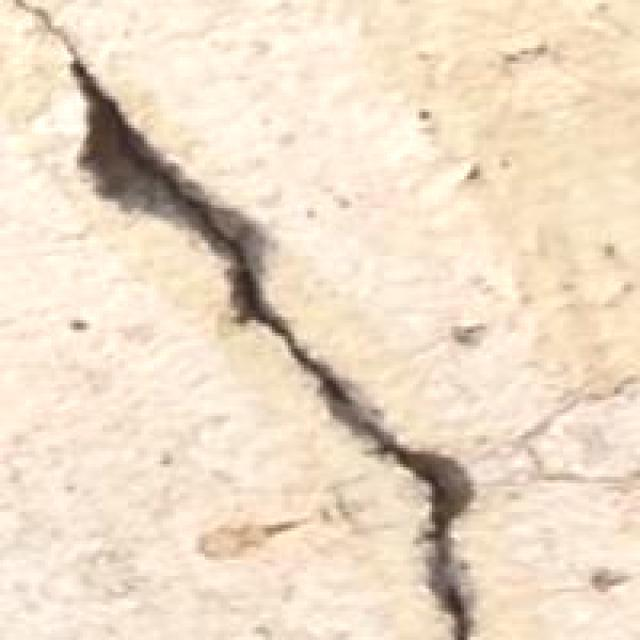crack: (8, 0, 526, 640)
